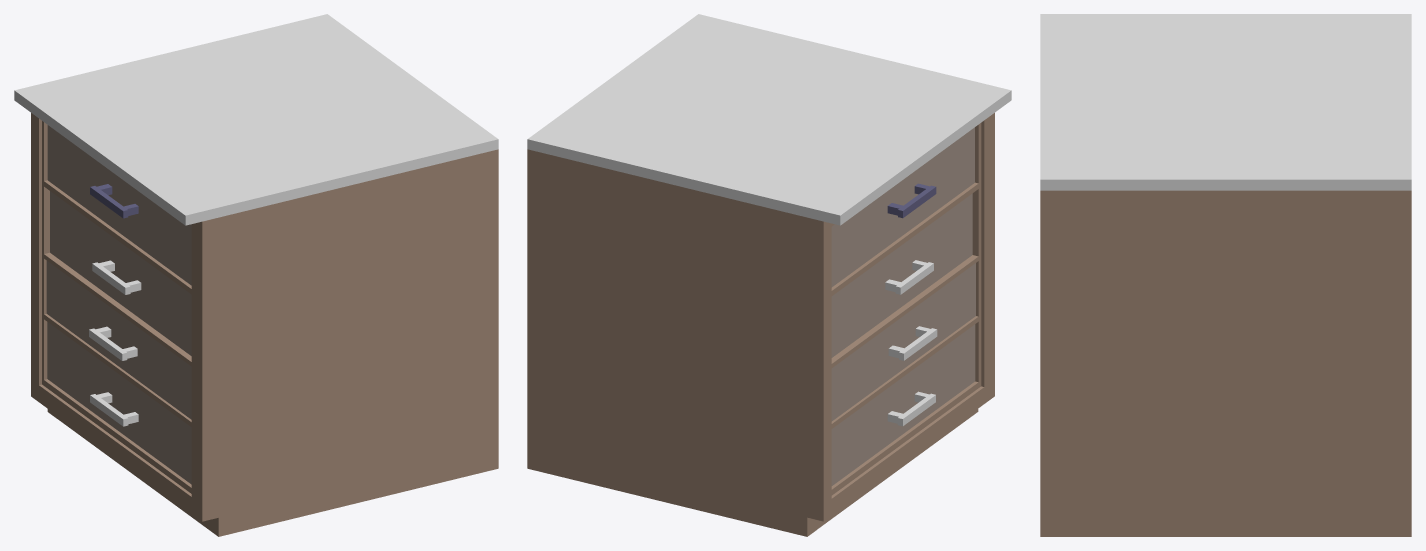
The model's file is comptoir_millieu_02.fbx.
3 views of the same model, side by side, from view 1: azimuth 30°, elevation 25°; view 2: azimuth 150°, elevation 25°; view 3: azimuth 270°, elevation 25° (orthographic). The views are drawn at different scales.
Visible parts, largest first — view 1: pasted__pasted__comptoir_millieu_pasted__comptoir_pasted__co; view 2: pasted__pasted__comptoir_millieu_pasted__comptoir_pasted__co; view 3: pasted__pasted__comptoir_millieu_pasted__comptoir_pasted__co.
Part boxes in pixels (x1,y1,x2,y2): pasted__pasted__comptoir_millieu_pasted__comptoir_pasted__co: (14,14,498,536); pasted__pasted__comptoir_millieu_pasted__comptoir_pasted__co: (527,14,1011,536); pasted__pasted__comptoir_millieu_pasted__comptoir_pasted__co: (1040,14,1411,536).
Size of the model in its own units: 4.51 by 4.54 by 4.27.
